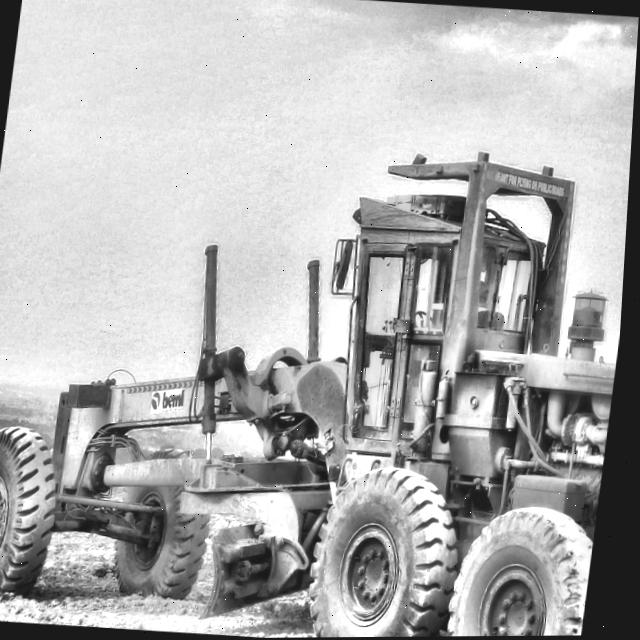buldozerpayloadergrader: (0, 155, 621, 638)
